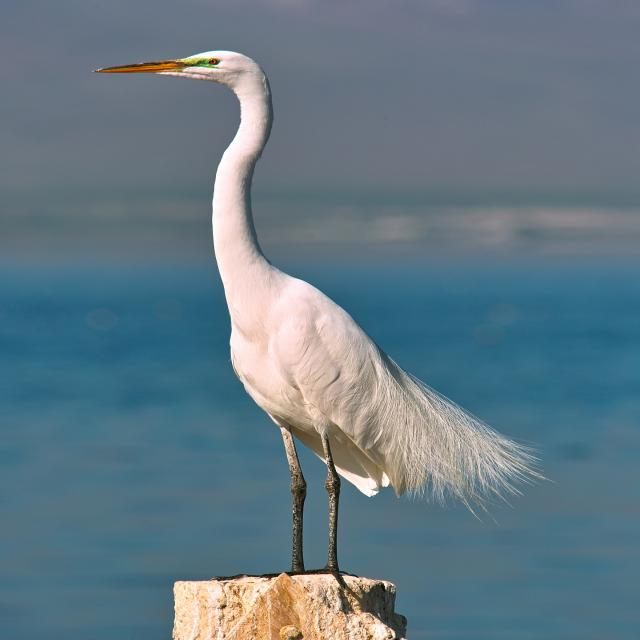bird: (74, 43, 560, 580)
